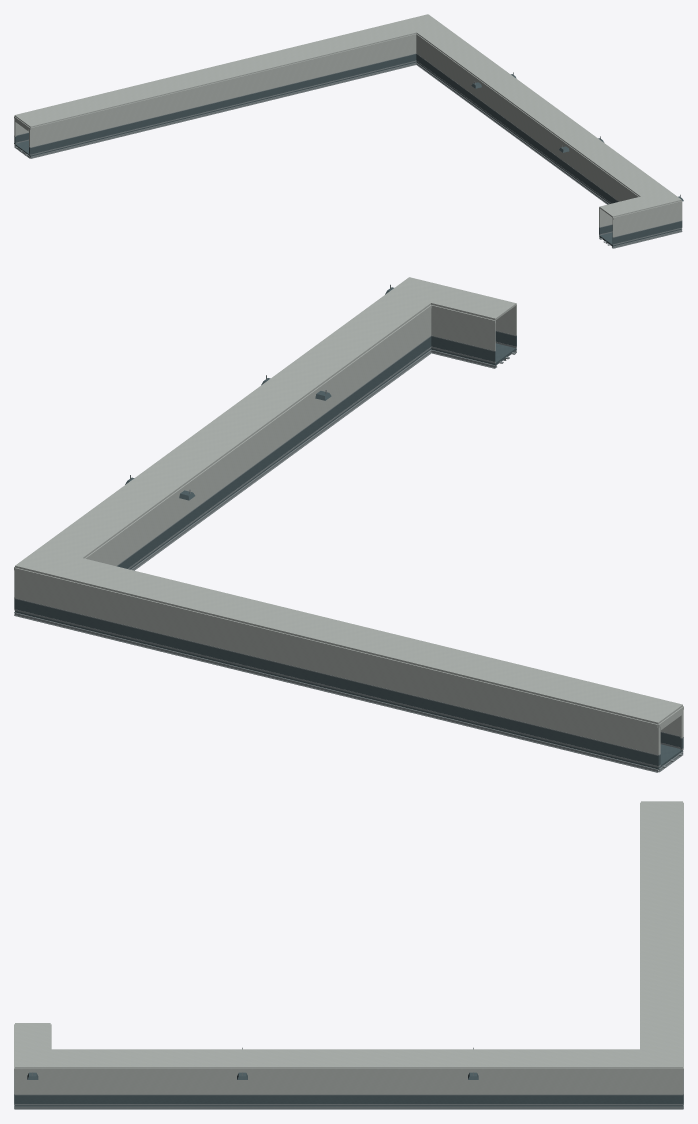
The model's file is VESPER_SERVICE_RECEIVER_r001.glb.
3 views of the same model, one above another, from view 1: azimuth 30°, elevation 25°; view 2: azimuth 150°, elevation 25°; view 3: azimuth 270°, elevation 25° (orthographic). The views are drawn at different scales.
Parts seen in each view (by area): view 1: VSR_BATCH_001, VSR_BATCH_000, VSR_BATCH_002; view 2: VSR_BATCH_001, VSR_BATCH_000, VSR_BATCH_002; view 3: VSR_BATCH_001, VSR_BATCH_000, VSR_BATCH_002.
Boxes of the visible parts, x1,y1,x2,y2 form: VSR_BATCH_001: (14,14,682,237); VSR_BATCH_000: (14,54,683,246); VSR_BATCH_002: (14,53,682,248); VSR_BATCH_001: (14,277,683,754); VSR_BATCH_000: (14,287,683,769); VSR_BATCH_002: (14,284,683,772); VSR_BATCH_001: (14,801,683,1094); VSR_BATCH_000: (14,1072,683,1106); VSR_BATCH_002: (14,1047,683,1109).
Size of the model in its own units: 61.3 by 4.44 by 63.88.
4 materials, 3 textured.
